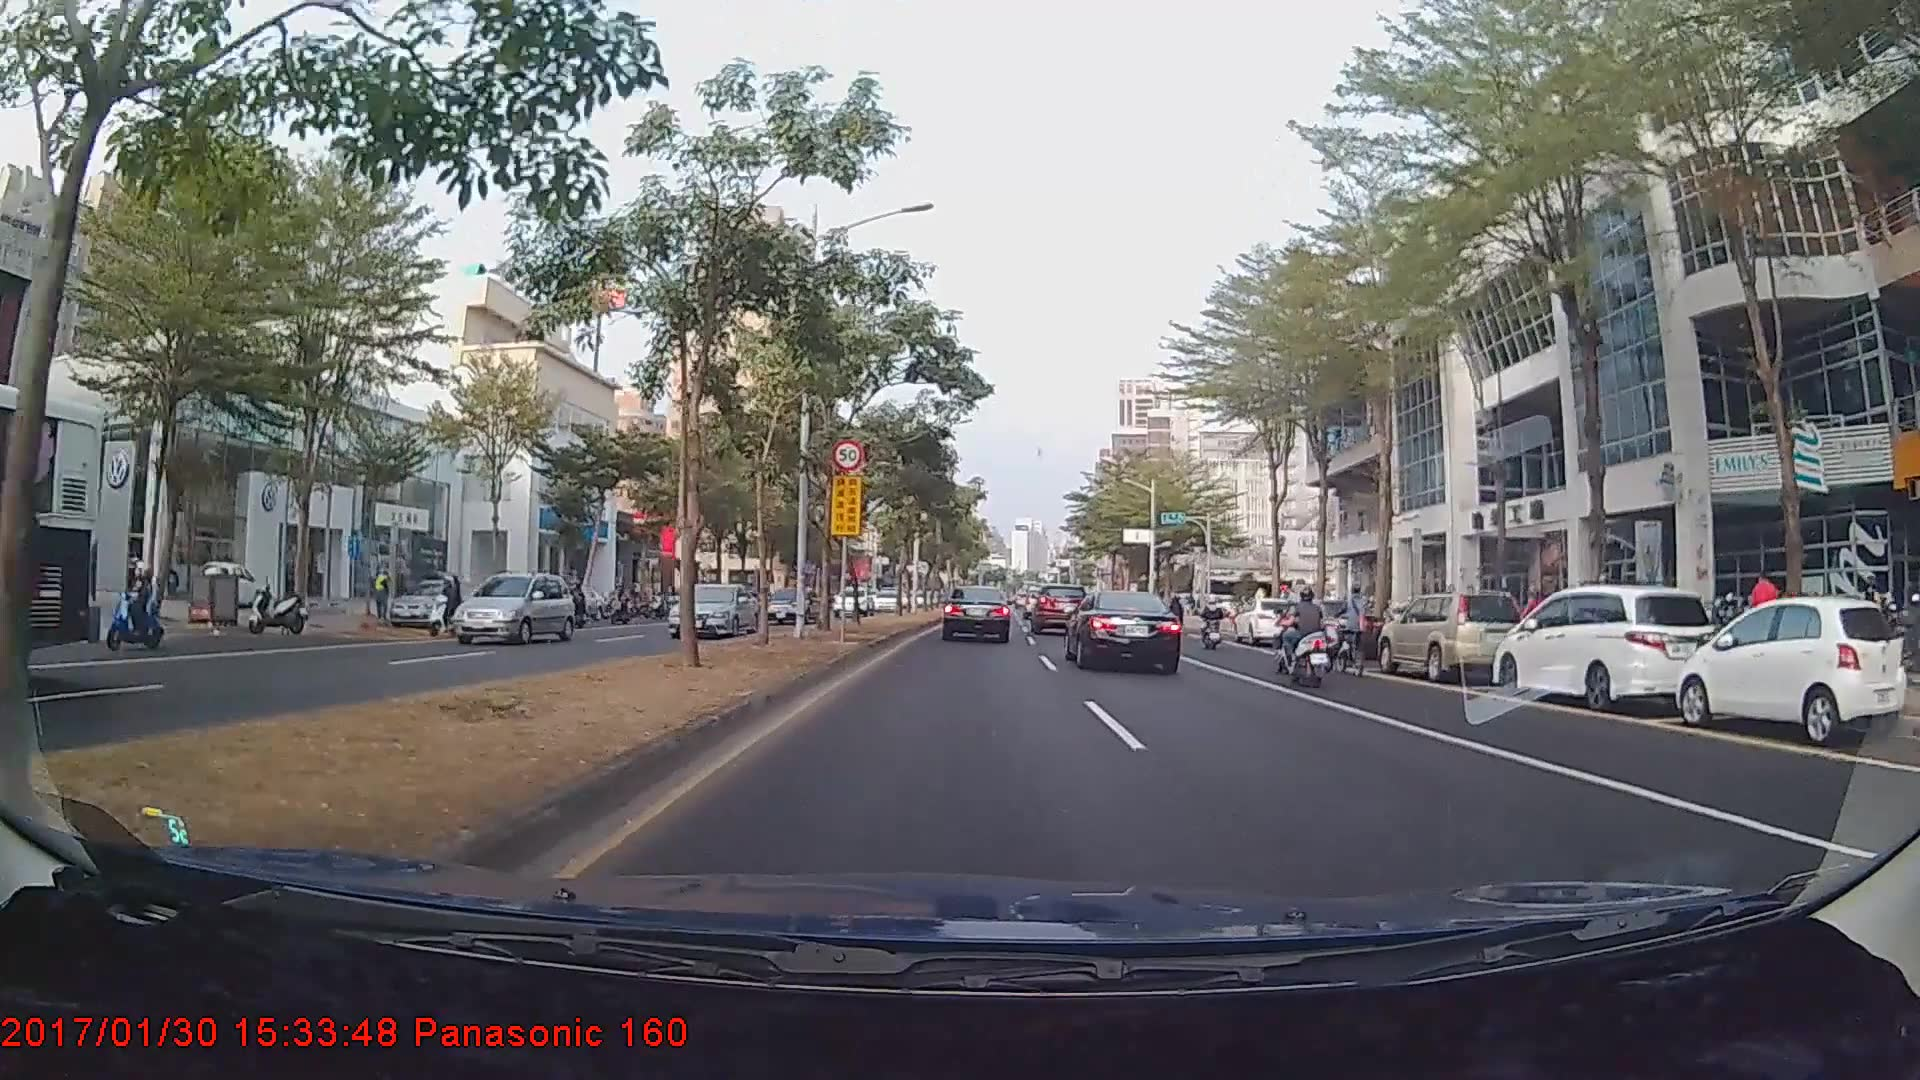rider: (1269, 582, 1343, 689), (100, 557, 164, 649), (426, 569, 469, 640), (1194, 594, 1228, 649)
vehicle: (1675, 594, 1907, 745), (0, 374, 107, 687), (1491, 583, 1718, 707), (1375, 592, 1524, 680), (447, 569, 578, 647), (1067, 586, 1183, 673), (1272, 599, 1374, 662), (664, 581, 757, 637), (940, 584, 1013, 643), (387, 581, 473, 627), (1236, 594, 1305, 647), (1027, 584, 1080, 632), (758, 586, 821, 623), (832, 586, 872, 615)
